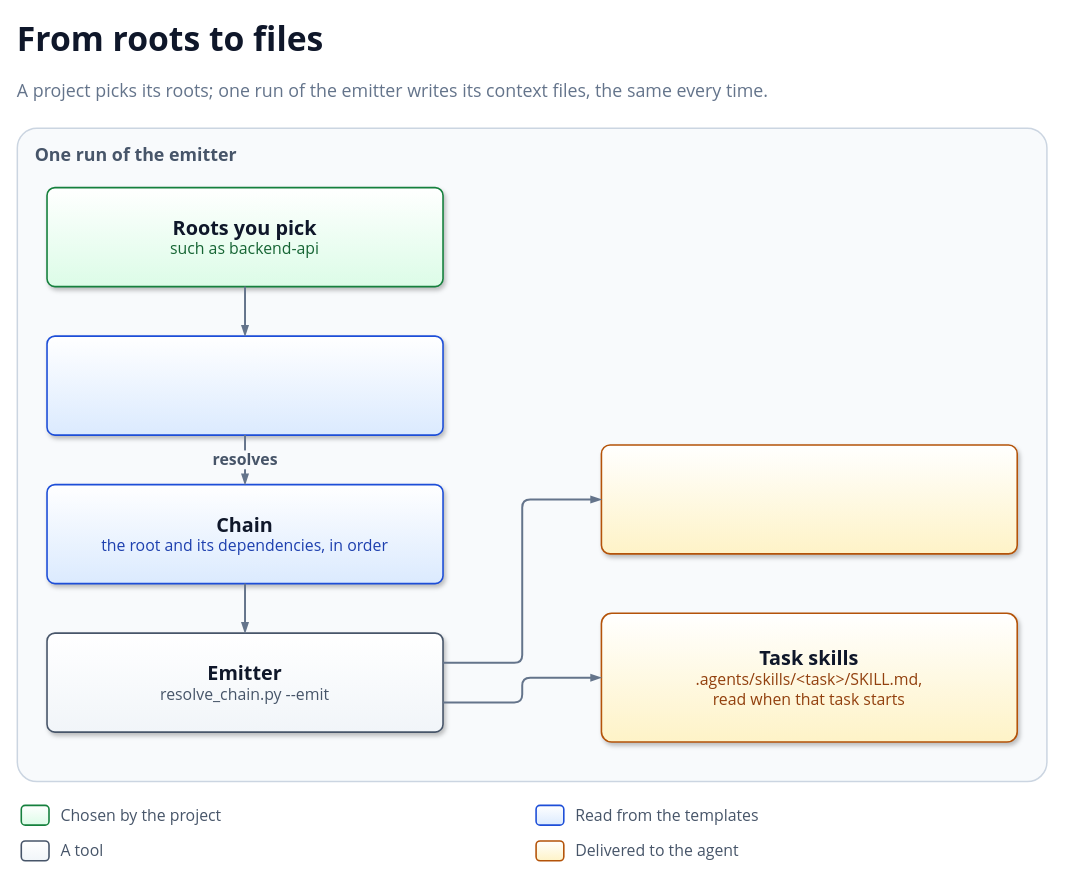
Some shapes in this 1065 by 881 pixel diagram are drawn without their labels. Each missing label, with the centre of its shape:
"AGENTS.md read on every turn" goes at point 809,500.
"Manifest which template depends on which" goes at point 245,386.
